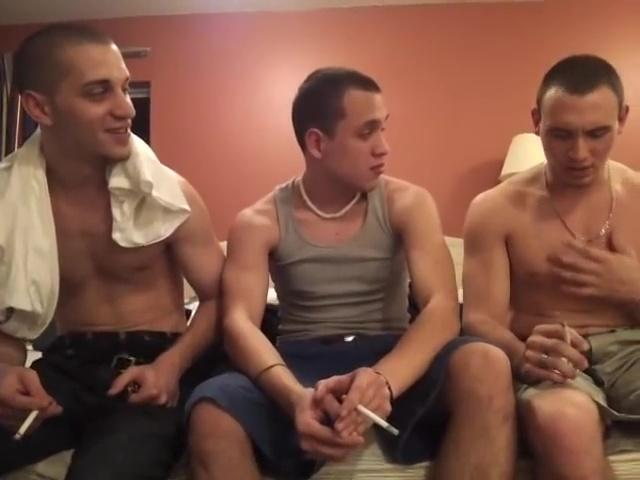cigarette: (355, 402, 402, 438), (15, 405, 42, 444), (558, 317, 577, 346)
